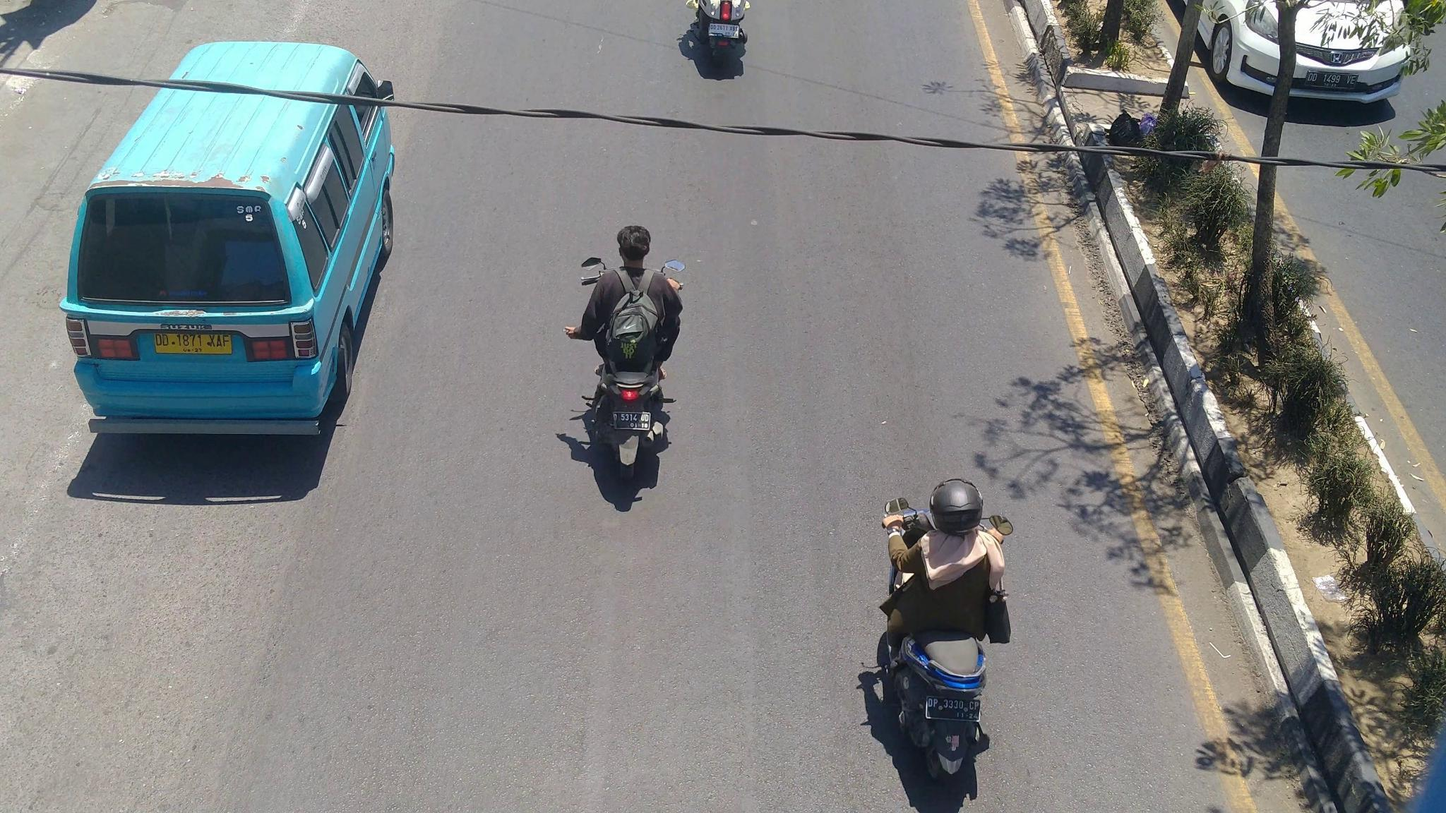Helmet: (922, 472, 998, 539)
bike: (884, 492, 1017, 776), (578, 247, 686, 484)
no-helmet: (611, 220, 660, 271)
number-plate: (923, 694, 985, 723), (612, 411, 651, 434)
rider: (881, 474, 1015, 665), (571, 223, 688, 381)
